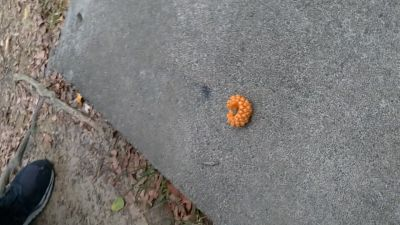eggs: (223, 92, 254, 132)
